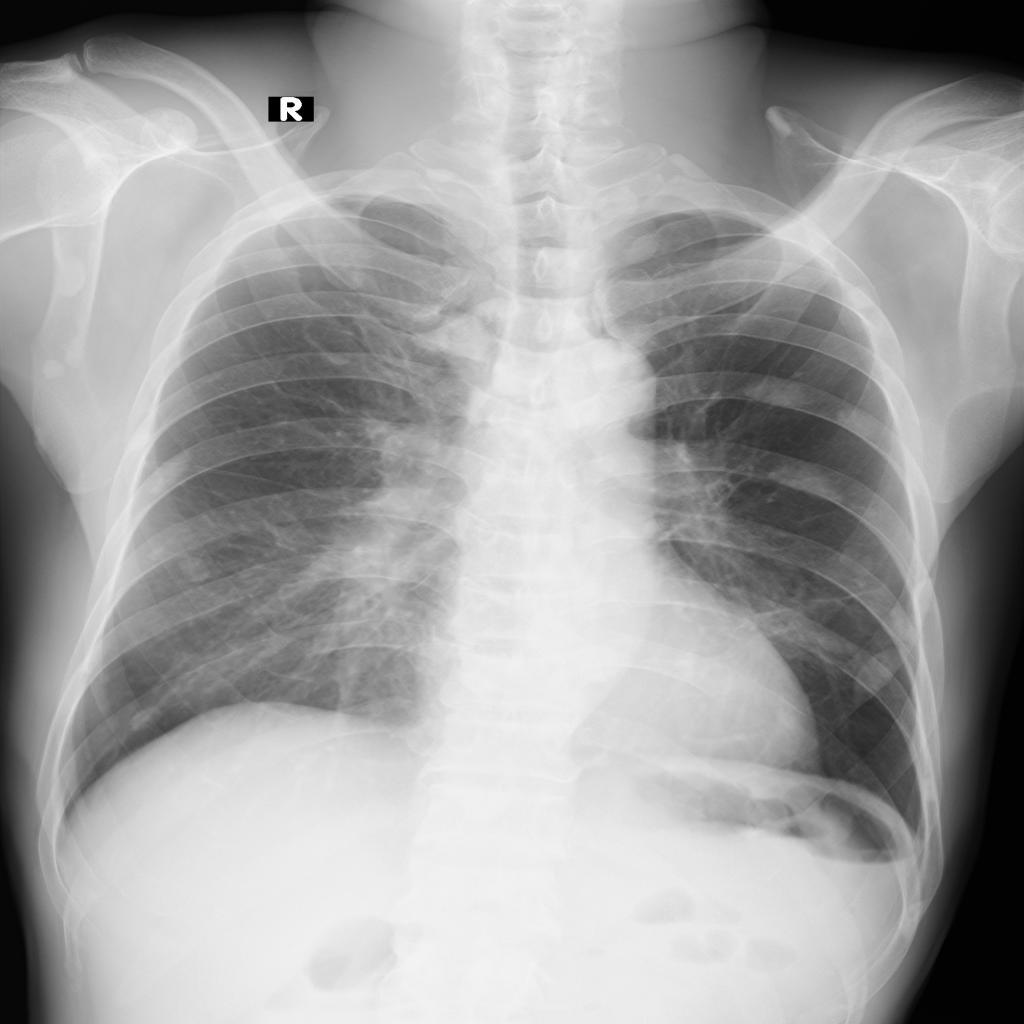Nodule: (432, 308, 492, 362), (151, 544, 212, 584), (130, 708, 163, 735)
